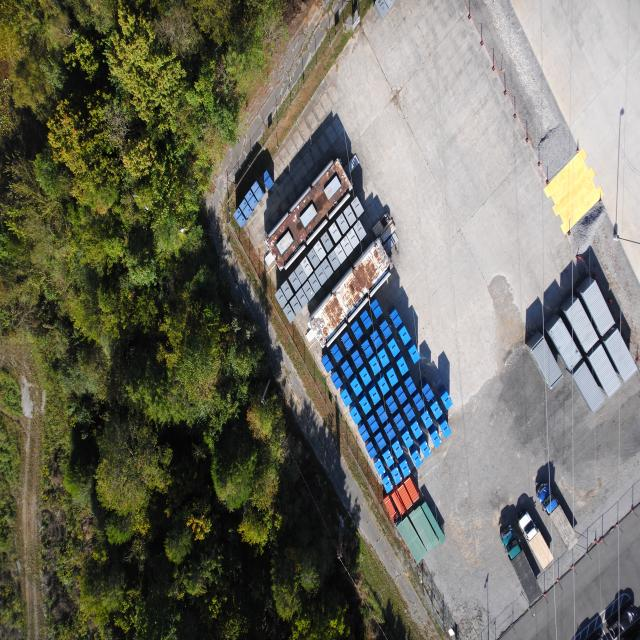Area of Interest: (3, 14, 345, 638)
